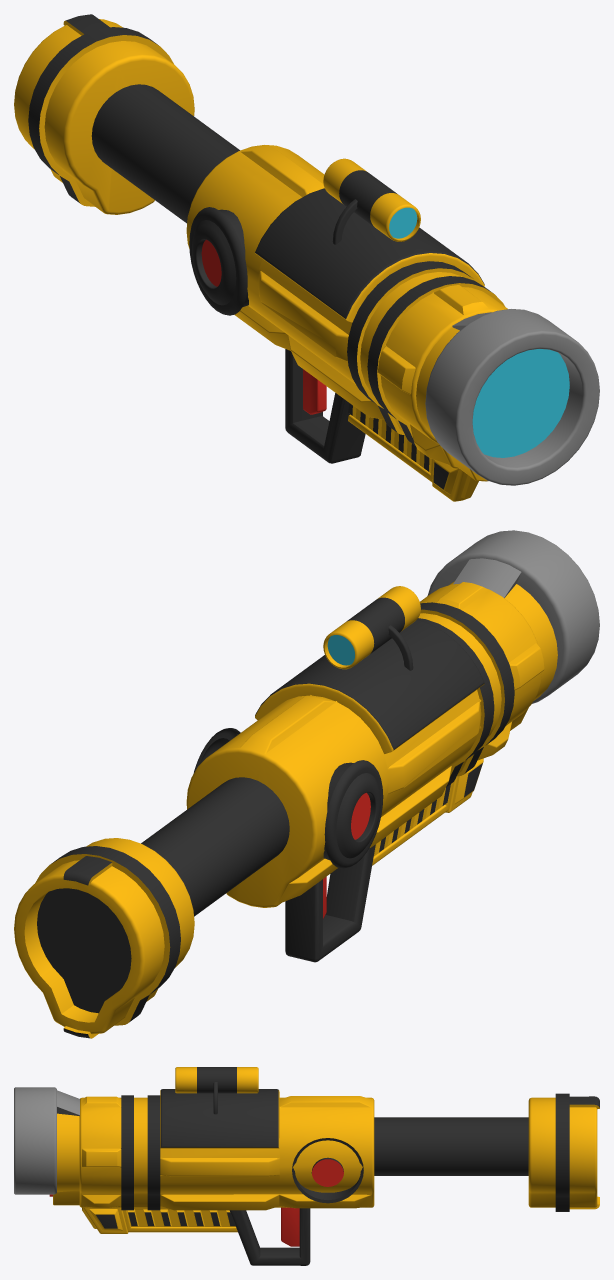
Rendered from bazuka.fbx.
3 renders of one model, top to bottom at view 1: azimuth 30°, elevation 25°; view 2: azimuth 150°, elevation 25°; view 3: azimuth 270°, elevation 25°, orthographic. The views are drawn at different scales.
Visible parts, largest first — view 1: bazuka; view 2: bazuka; view 3: bazuka.
Boxes of the visible parts, left/top/right/bottom form: bazuka: left=14, top=14, right=599, bottom=501; bazuka: left=14, top=530, right=599, bottom=1038; bazuka: left=14, top=1067, right=599, bottom=1265.
Size of the model in its own units: 121 by 223 by 613.
